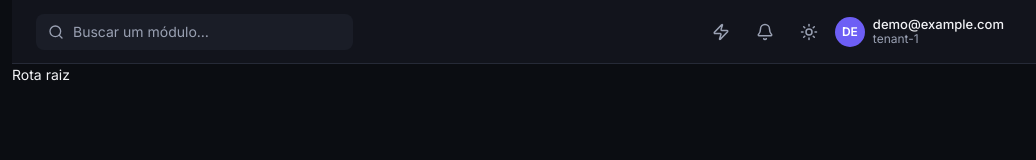
Topbar — pesquisa global, notificações e perfil (UX-001) › Pesquisa Global filtra NAV_ENTRIES e navega ao selecionar um resultado
expect the text "demo@example.com" is shown: met, box x1=873 y1=16 x2=1004 y2=32
Type "CRM" into the dropdown named "Pesquisa global" at (195, 32), box x1=36 y1=14 x2=353 y2=50
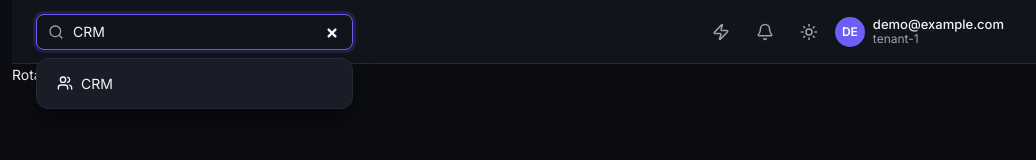
Click the option "CRM" at (97, 83), box x1=45 y1=66 x2=344 y2=100
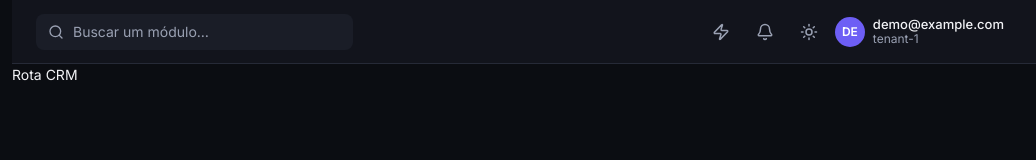
expect the text "Rota CRM" is shown: met, box x1=12 y1=66 x2=78 y2=83
